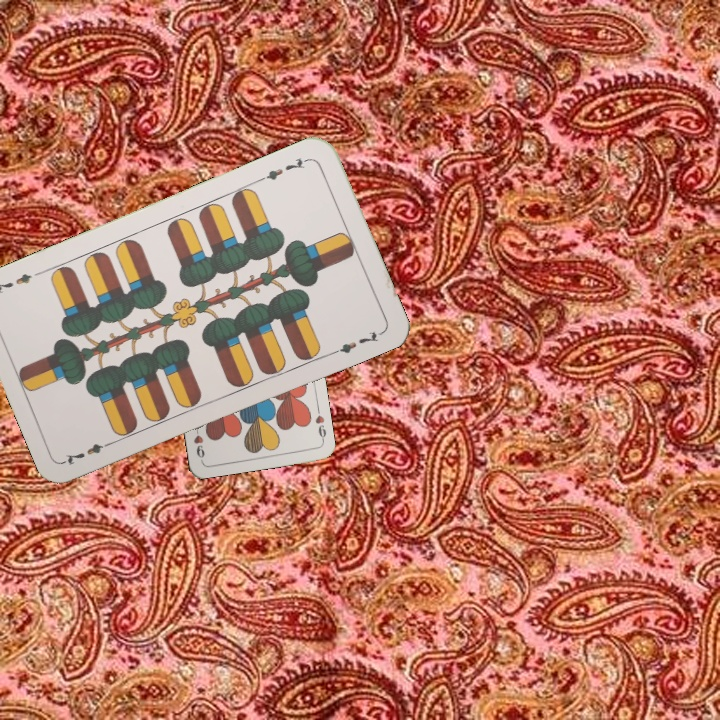E7: (60, 436, 117, 468), (256, 153, 313, 184)
H9: (311, 411, 329, 444)
